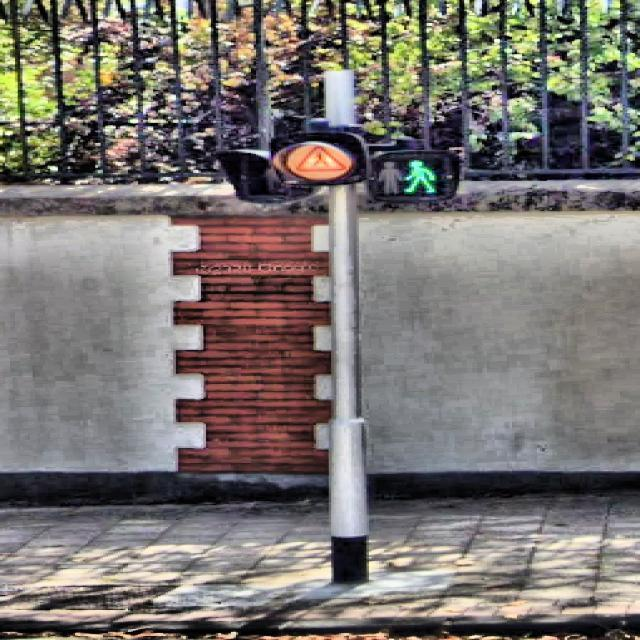green_light: (394, 156, 440, 195)
